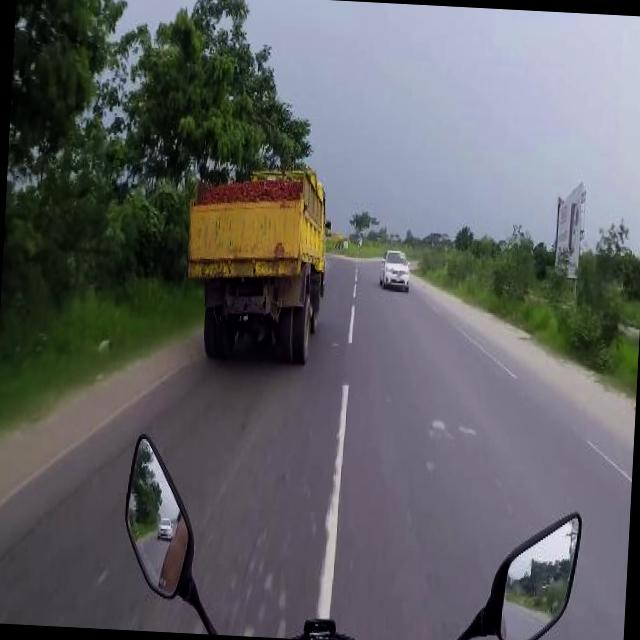car: (380, 245, 412, 289)
truck: (180, 155, 334, 370)
